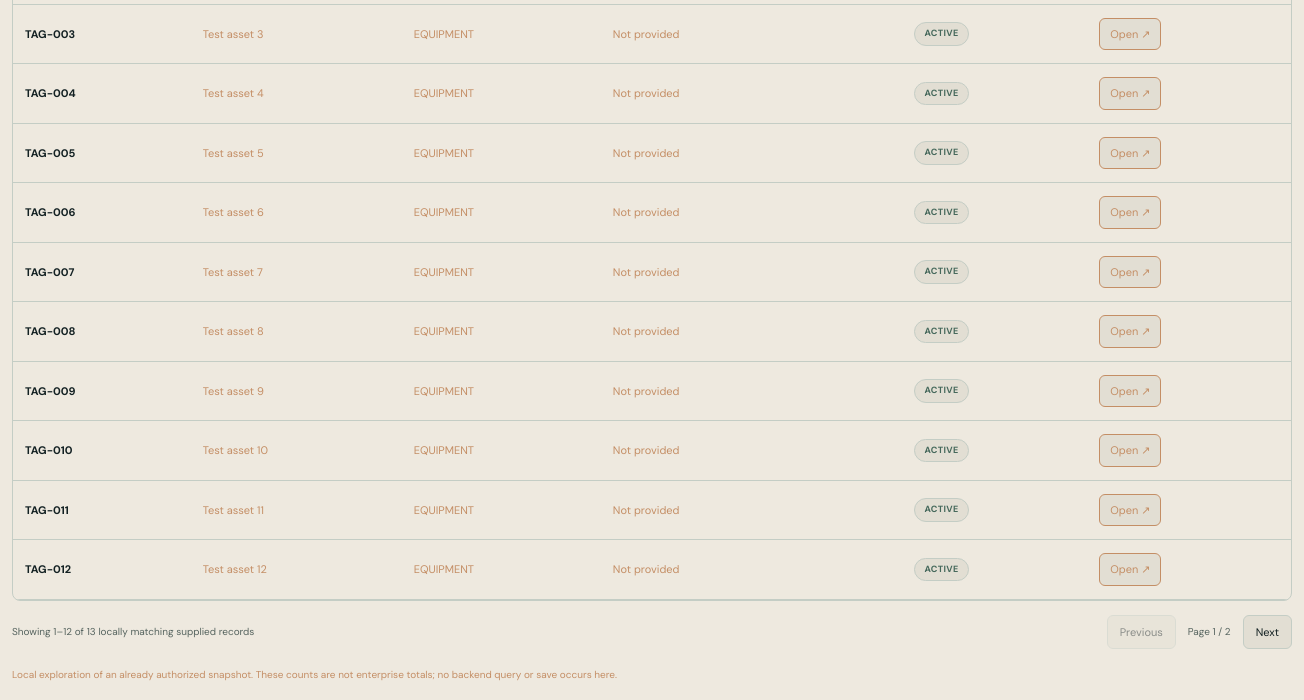
Test: future AIR frontend presentation boundary › paginates the supplied snapshot and resets on search changes
(page scrolled)
Expected: the text "TAG-013" is not shown
Click the button "Next". click: coordinates (1267, 632)
box: [1243,614,1292,648]
(page scrolled)
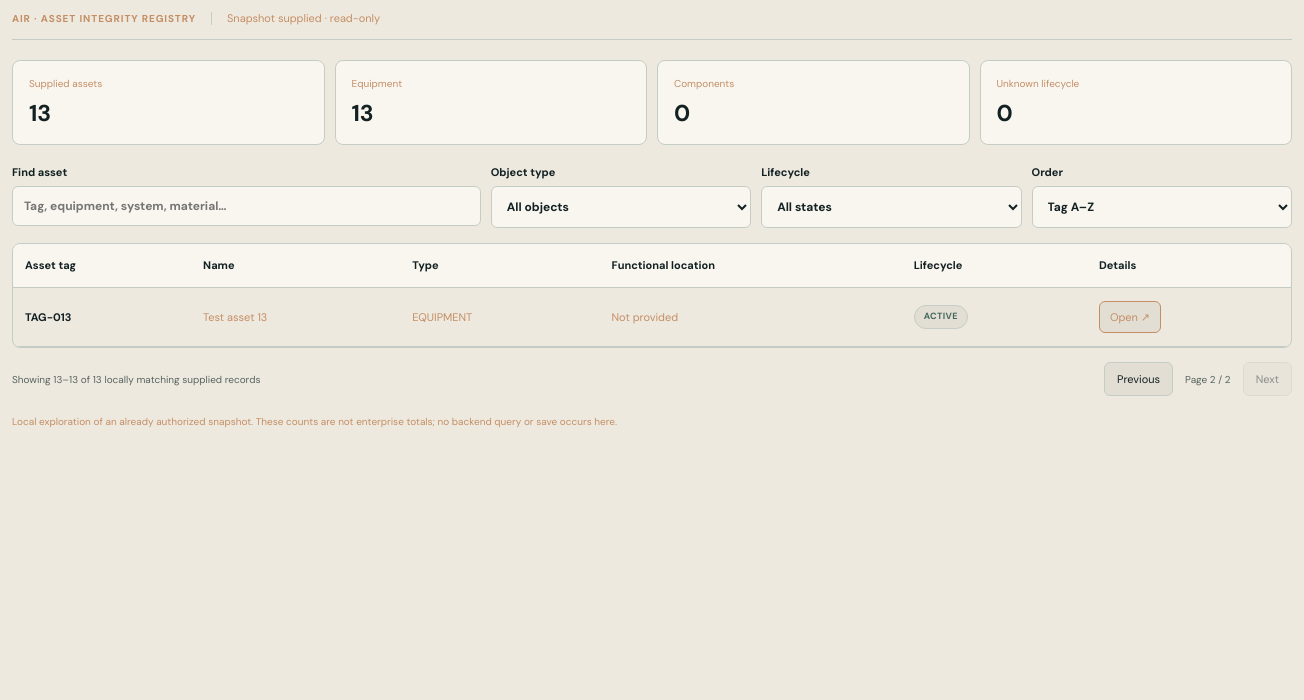
Now the column heading "TAG-013" is shown, box [13,288,191,346]
Type "TAG-001" into the search field labelled "Find asset". click: coordinates (246, 206)
box: [12,186,481,226]
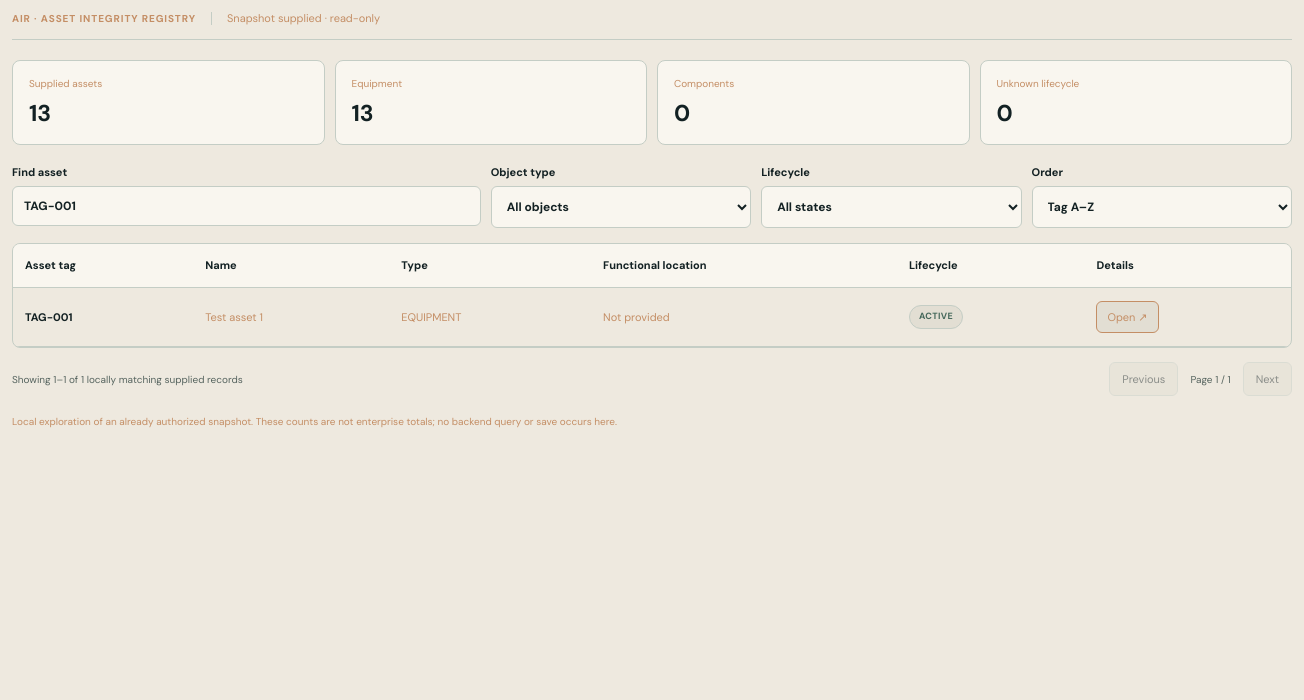
Now the column heading "TAG-001" is shown, box [13,288,193,346]
Now the column heading "TAG-013" is gone
Now the text "Page 1 / 1" is shown, box [1190,372,1231,386]
